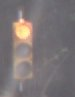Red: (10, 18, 32, 86)
